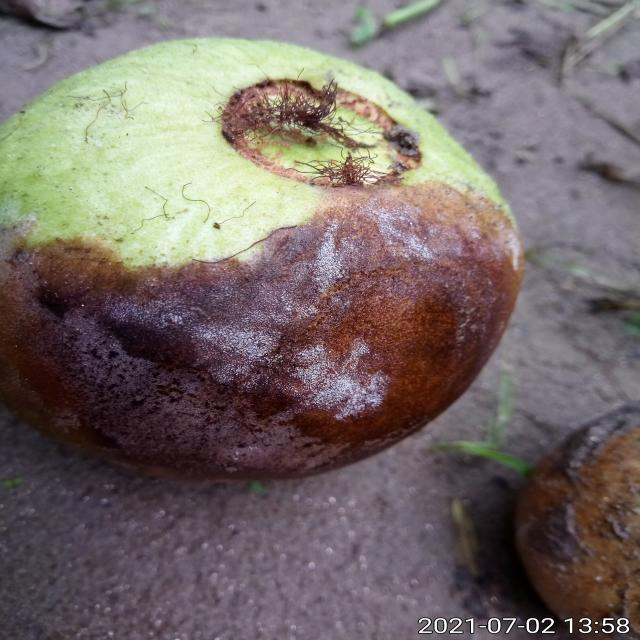Styler and Root: (2, 39, 522, 480), (515, 405, 640, 631)
